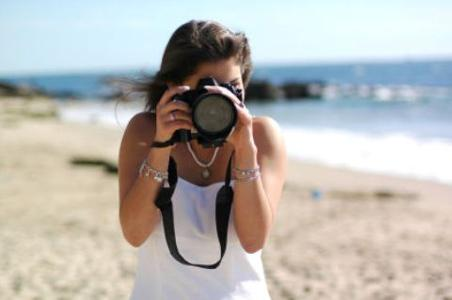person: (119, 21, 285, 300)
